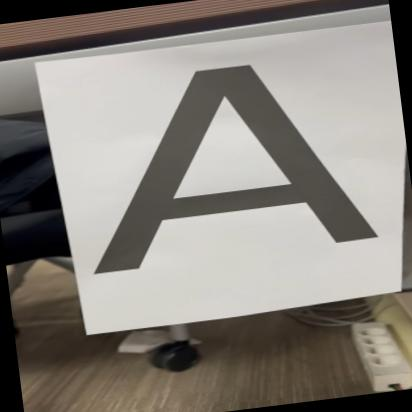seat: (45, 35, 397, 287)
